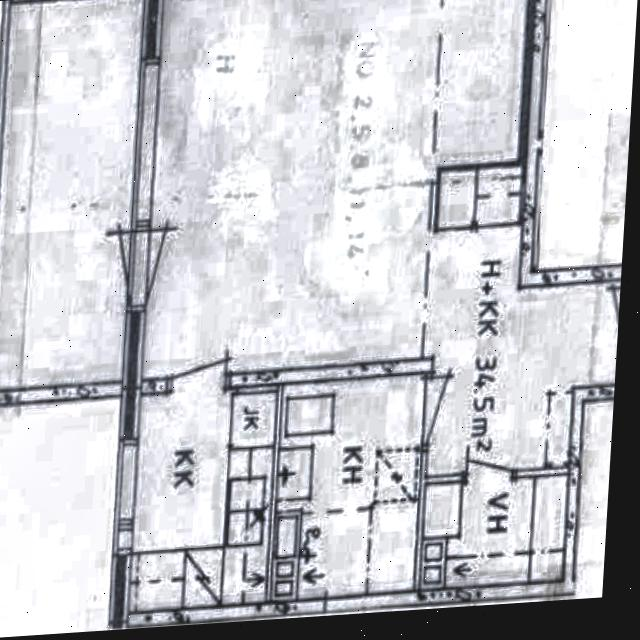room: (114, 374, 441, 609), (414, 475, 575, 587)
